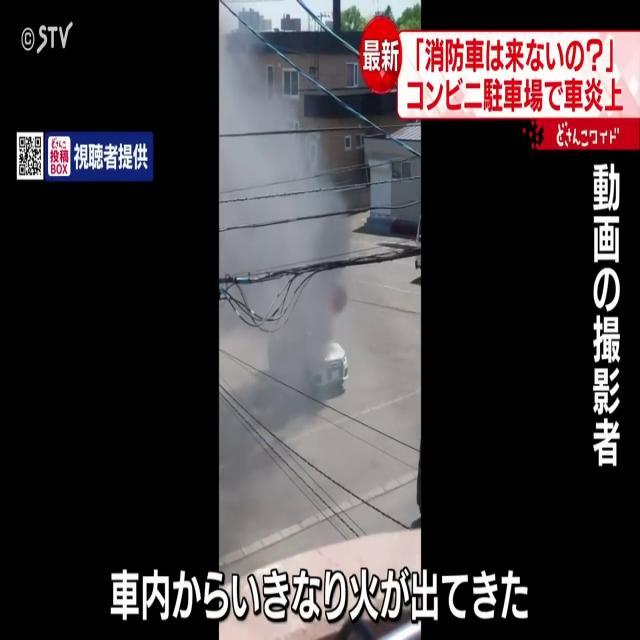Smoke: (219, 17, 415, 546)
